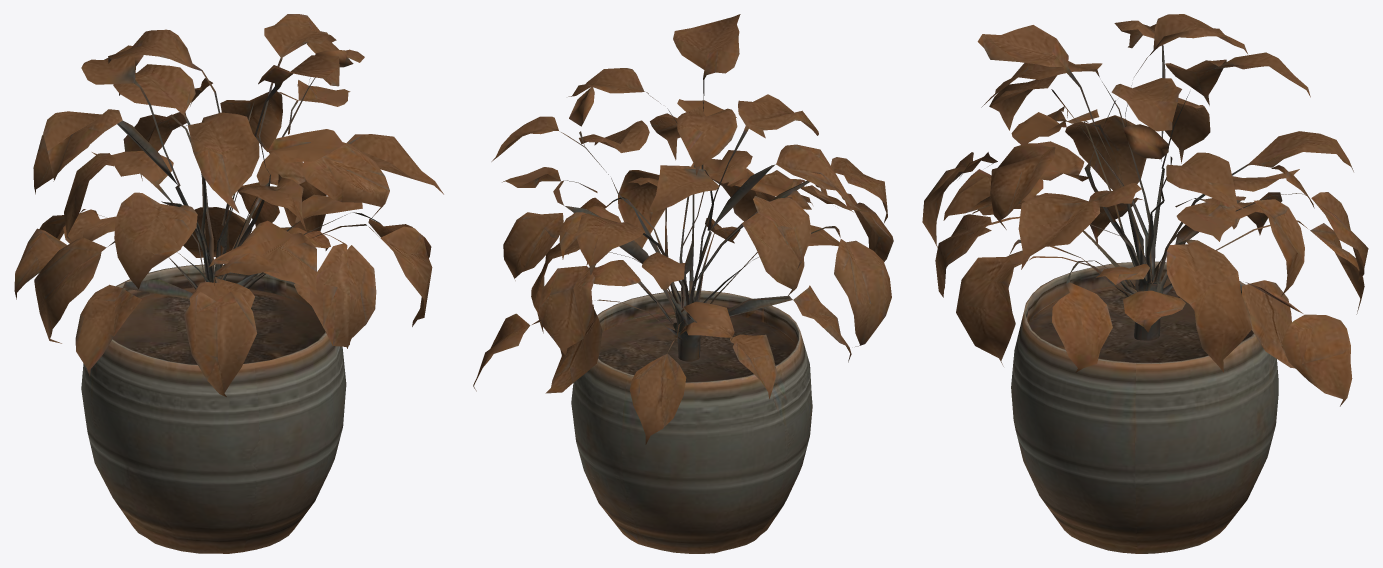
The model's file is office-dead-plant.glb.
3 views of the same model, side by side, from view 1: azimuth 30°, elevation 25°; view 2: azimuth 150°, elevation 25°; view 3: azimuth 270°, elevation 25° (orthographic). The views are drawn at different scales.
Parts seen in each view (by area): view 1: dead-plant; view 2: dead-plant; view 3: dead-plant.
Part boxes in pixels (left/top/right/bottom): dead-plant: left=14, top=14, right=443, bottom=553; dead-plant: left=473, top=14, right=893, bottom=553; dead-plant: left=922, top=14, right=1368, bottom=553.
Size of the model in its own units: 0.8567 by 1.1 by 0.8933.
Materials: 1 (1 with a texture image).
